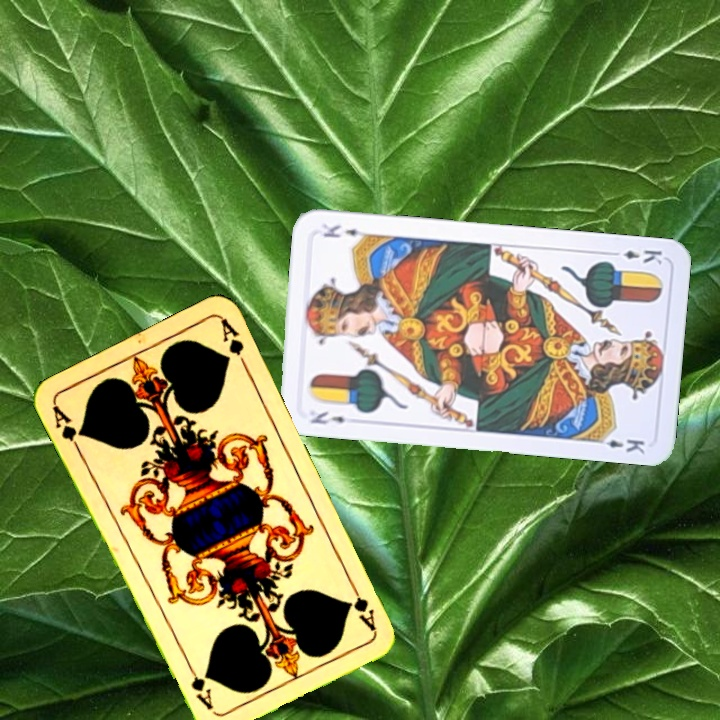EK: (606, 245, 665, 267), (306, 407, 348, 427)
GA: (48, 401, 86, 456), (345, 577, 379, 633)
